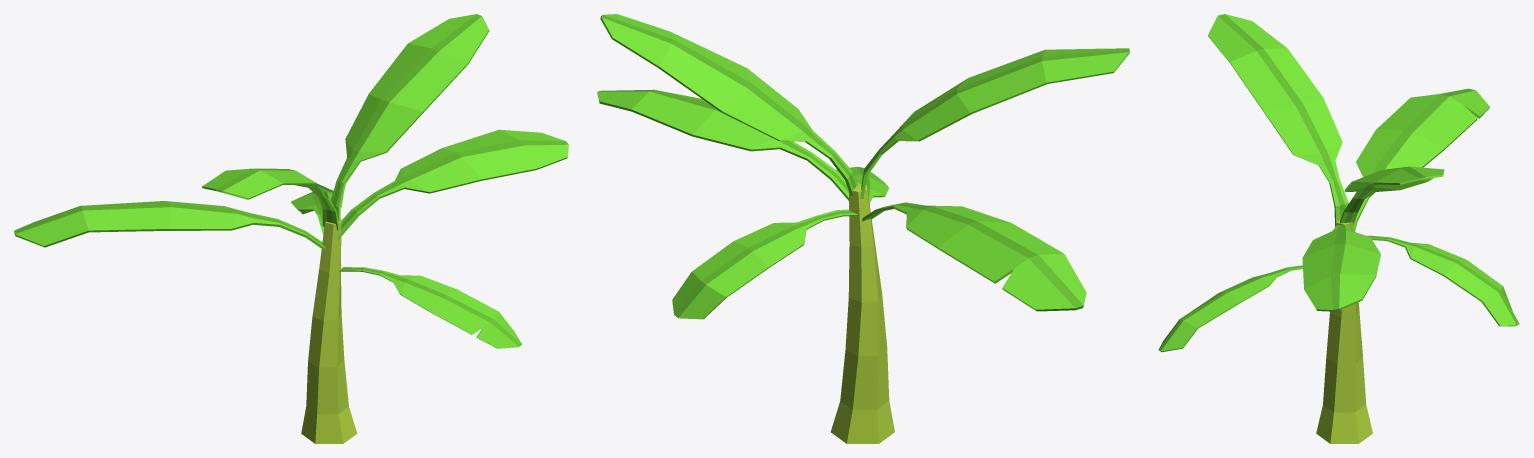
3 views of the same model, side by side, from view 1: azimuth 30°, elevation 25°; view 2: azimuth 150°, elevation 25°; view 3: azimuth 270°, elevation 25° (orthographic). The views are drawn at different scales.
Parts seen in each view (by area): view 1: Banana Leafs.007_3, Banana Leafs.005_1, Banana Trunk.001_6, Banana Leafs.006_2, Banana Leafs_5, Banana Leafs.003_0, Banana Leafs.008_4; view 2: Banana Leafs.006_2, Banana Leafs.007_3, Banana Trunk.001_6, Banana Leafs.003_0, Banana Leafs.008_4, Banana Leafs.005_1, Banana Leafs_5; view 3: Banana Leafs.003_0, Banana Leafs.006_2, Banana Trunk.001_6, Banana Leafs.005_1, Banana Leafs.008_4, Banana Leafs_5, Banana Leafs.007_3.
Part boxes in pixels (x1,y1,x2,y2): Banana Leafs.007_3: (330,14,489,234); Banana Leafs.005_1: (337,129,568,239); Banana Trunk.001_6: (301,219,357,443); Banana Leafs.006_2: (14,201,326,251); Banana Leafs_5: (339,267,521,348); Banana Leafs.003_0: (202,168,339,230); Banana Leafs.008_4: (291,192,343,234); Banana Leafs.006_2: (862,202,1086,311); Banana Leafs.007_3: (600,14,857,195); Banana Trunk.001_6: (830,183,894,443); Banana Leafs.003_0: (860,48,1129,198); Banana Leafs.008_4: (672,209,857,319); Banana Leafs.005_1: (597,89,848,200); Banana Leafs_5: (836,166,888,204); Banana Leafs.003_0: (1208,14,1348,226); Banana Leafs.006_2: (1353,88,1489,231); Banana Trunk.001_6: (1316,220,1372,443); Banana Leafs.005_1: (1302,225,1380,311); Banana Leafs.008_4: (1367,235,1519,326); Banana Leafs_5: (1158,265,1302,351); Banana Leafs.007_3: (1339,166,1444,225).
Size of the model in its own units: 1.32 by 0.8913 by 0.8356.
